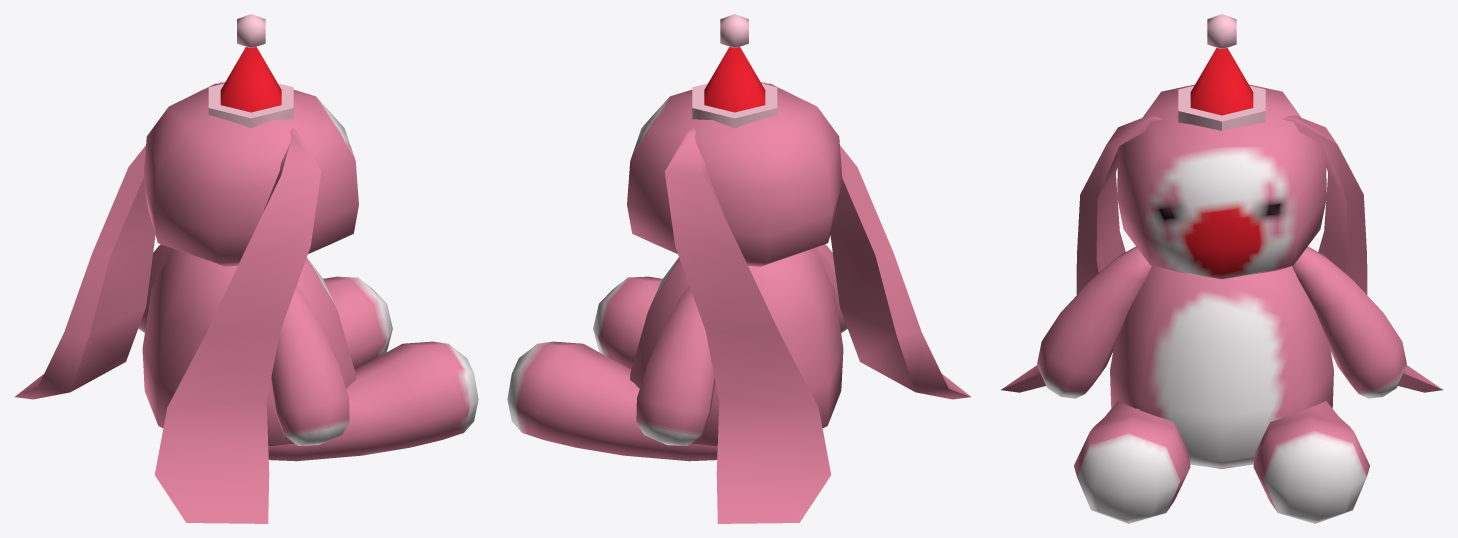
The model's file is Prop_083_Plush_A_001.fbx.
3 renders of one model, left to right at view 1: azimuth 30°, elevation 25°; view 2: azimuth 150°, elevation 25°; view 3: azimuth 270°, elevation 25°, orthographic. The views are drawn at different scales.
Parts seen in each view (by area): view 1: Prop_083_Plush_A_001; view 2: Prop_083_Plush_A_001; view 3: Prop_083_Plush_A_001.
Boxes of the visible parts, x1,y1,x2,y2 form: Prop_083_Plush_A_001: (15,14,478,523); Prop_083_Plush_A_001: (507,14,970,523); Prop_083_Plush_A_001: (1001,14,1442,523).
Size of the model in its own units: 0.3105 by 0.38 by 0.3504.
1 material, 1 textured.
